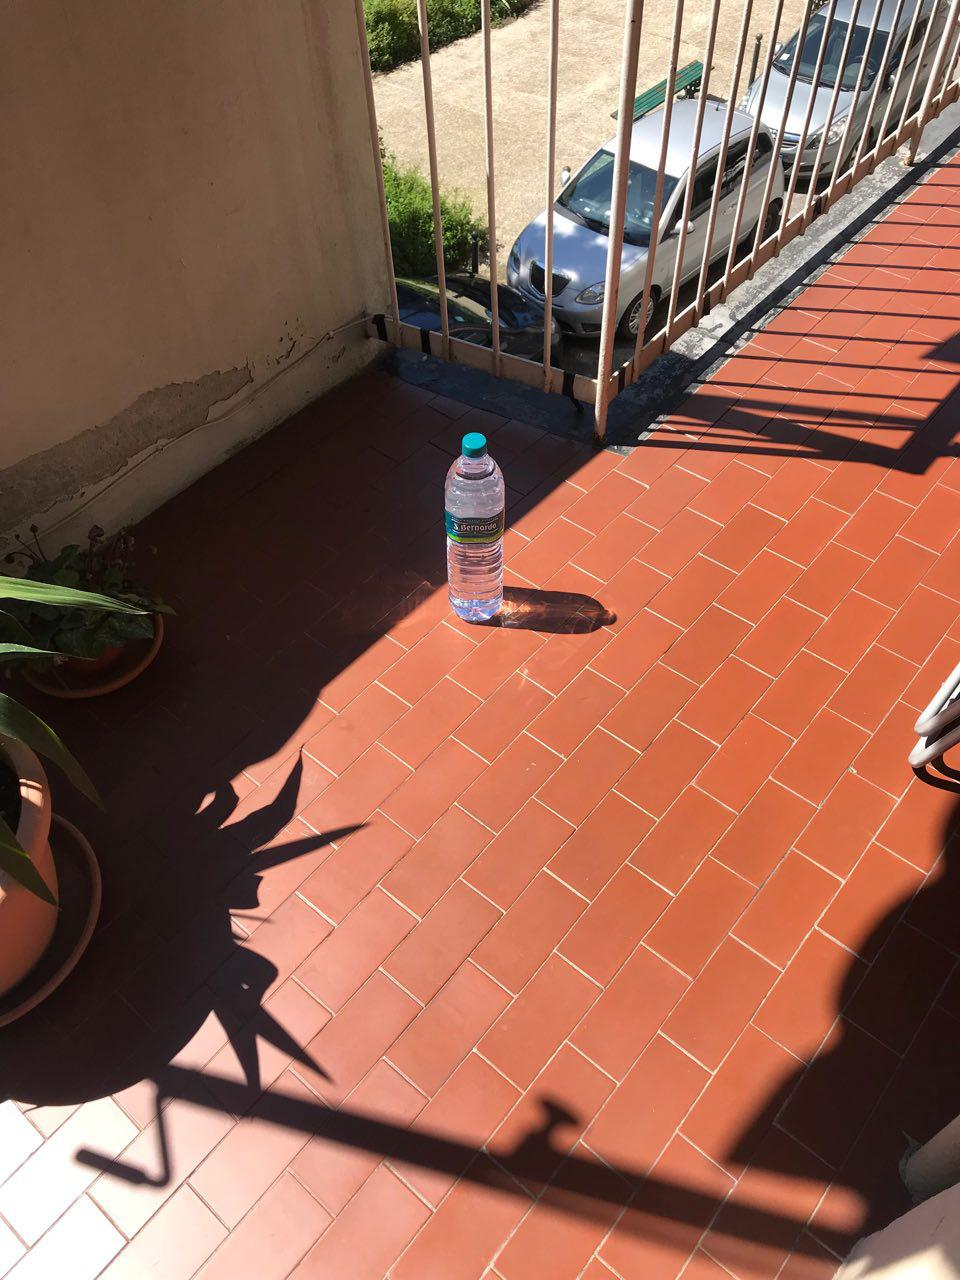san_bernardo: (444, 431, 505, 622)
